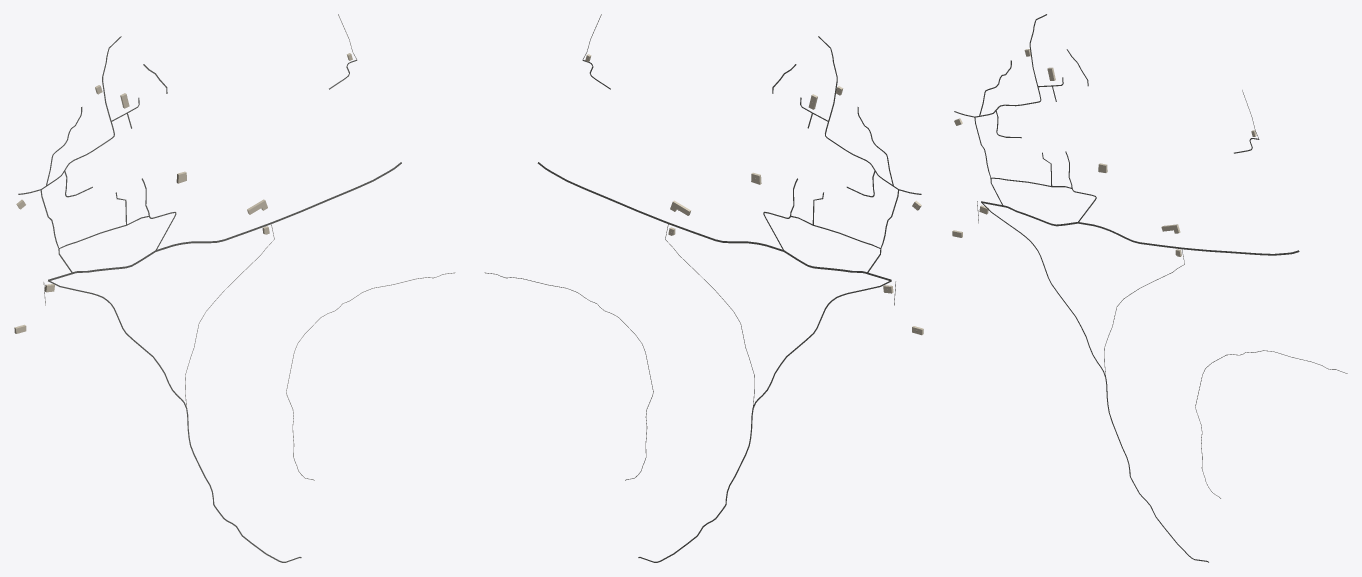
File: historic-palestine-10_31_3521_3252.glb
The picture shows the model from 3 angles, left to right: view 1: azimuth 30°, elevation 25°; view 2: azimuth 150°, elevation 25°; view 3: azimuth 330°, elevation 25°; orthographic projection. The views are drawn at different scales.
Parts seen in each view (by area): view 1: Road .002, Road تعنك - رمانة; view 2: Road .002, Road تعنك - رمانة; view 3: Road .002, Road تعنك - رمانة.
Boxes of the visible parts, box(x1,y1,x2,y2) form: Road .002: box(48, 162, 401, 280); Road تعنك - رمانة: box(48, 280, 301, 562); Road .002: box(537, 162, 891, 280); Road تعنك - رمانة: box(638, 280, 891, 562); Road .002: box(981, 201, 1299, 255); Road تعنك - رمانة: box(981, 202, 1208, 562).
Size of the model in its own units: 1197 by 1476 by 8.7.
